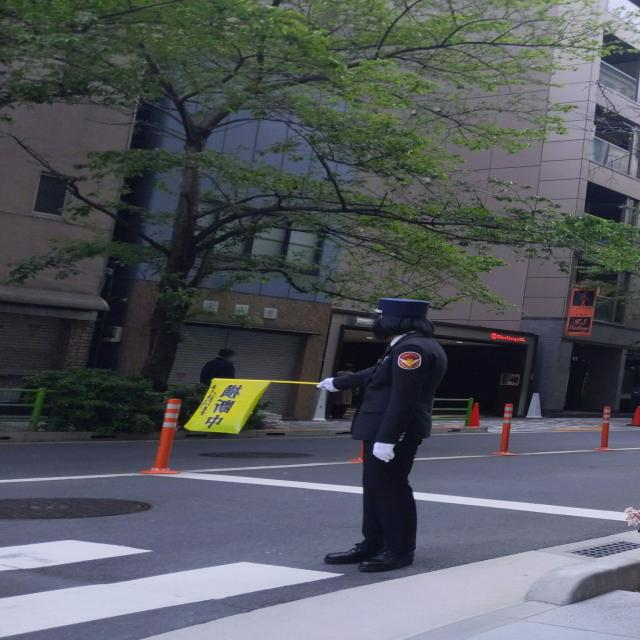sakura: (0, 0, 640, 390)
